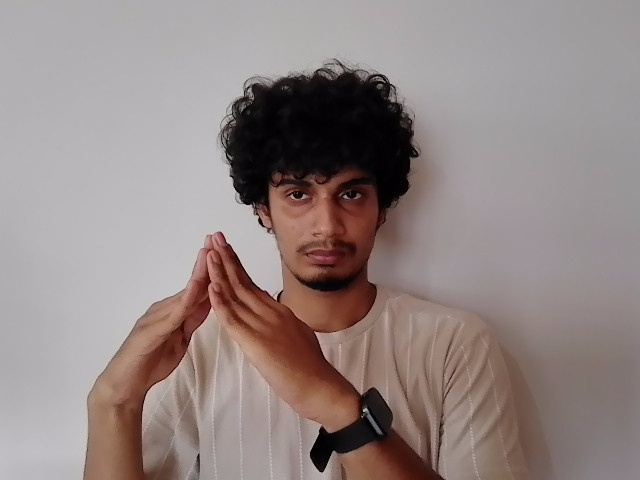home: (92, 231, 352, 400)
